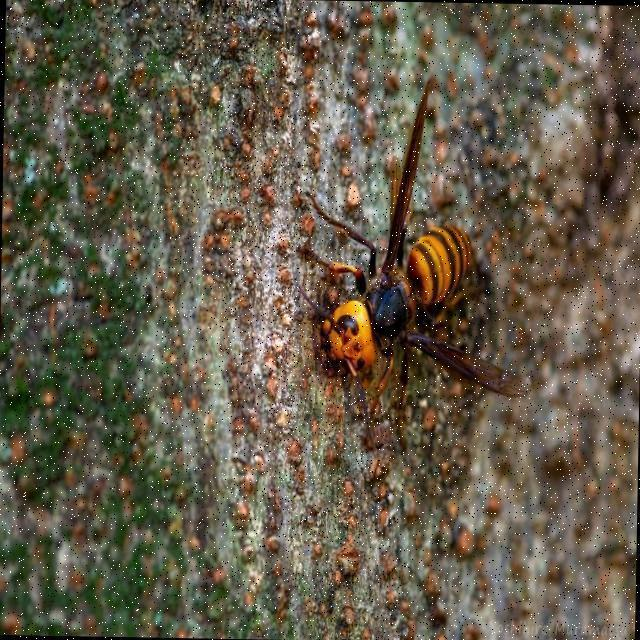Wasp: (272, 81, 530, 412)
